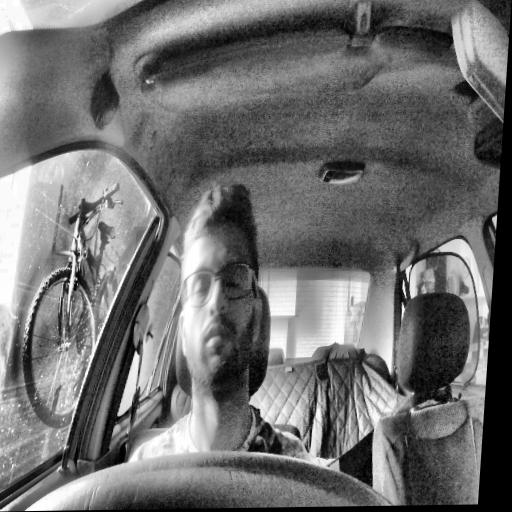drowsy: (169, 181, 274, 406)
